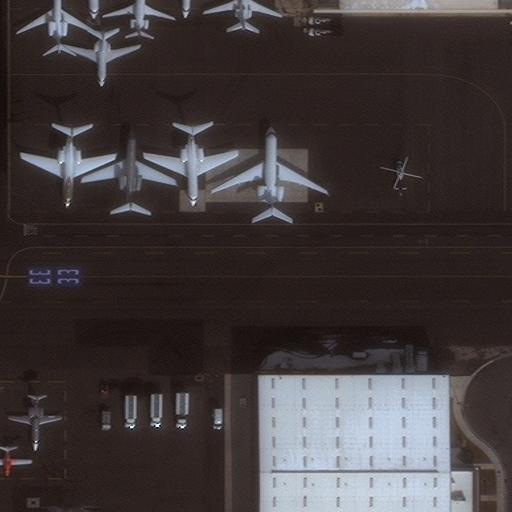Medium Civil Transport: (212, 126, 327, 218), (80, 128, 175, 212), (143, 125, 238, 207), (20, 125, 114, 206), (64, 30, 140, 87), (15, 0, 91, 54), (101, 0, 175, 36), (202, 0, 279, 30)
Small Civil Transport: (7, 394, 62, 452), (0, 444, 32, 476)
